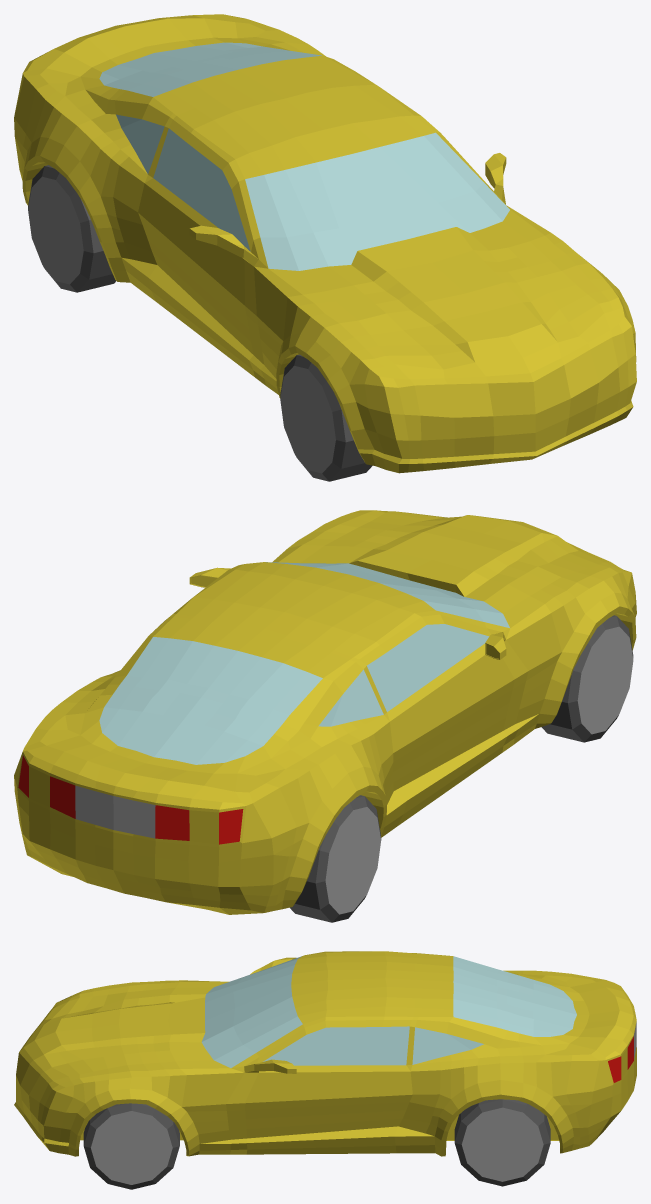
File: Carro.fbx
The picture shows the model from 3 angles, top to bottom: view 1: azimuth 30°, elevation 25°; view 2: azimuth 150°, elevation 25°; view 3: azimuth 270°, elevation 25°; orthographic projection. The views are drawn at different scales.
Visible parts, largest first — view 1: Carro; view 2: Carro; view 3: Carro.
Boxes of the visible parts, x1,y1,x2,y2 form: Carro: (14,14,636,481); Carro: (14,510,636,922); Carro: (14,951,636,1189).
Size of the model in its own units: 824 by 552 by 1947.
